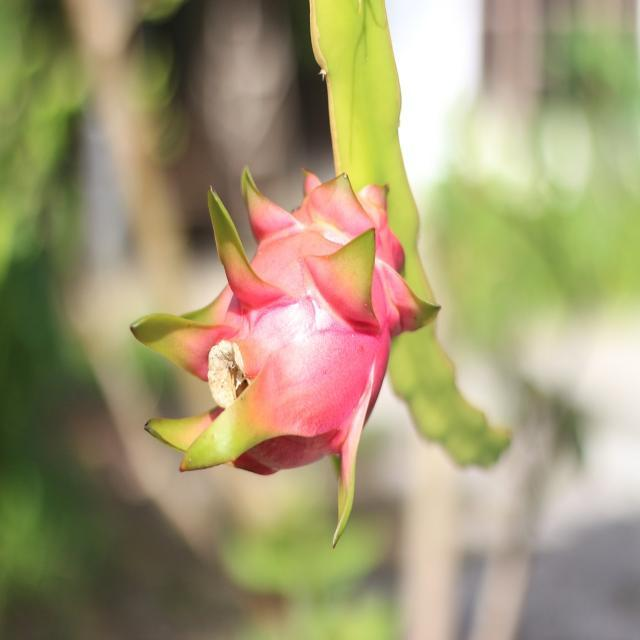dragon-fruit: (222, 189, 407, 471)
